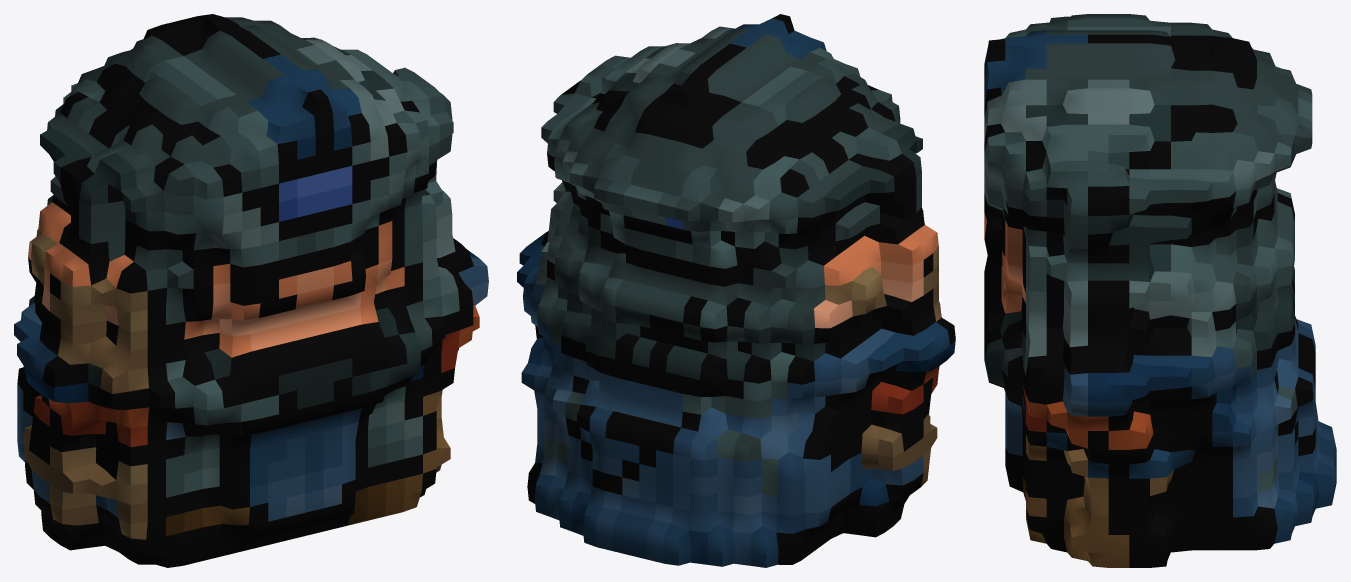
File: Icon_716_01.obj
3 renders of one model, left to right at view 1: azimuth 30°, elevation 25°; view 2: azimuth 150°, elevation 25°; view 3: azimuth 270°, elevation 25°, orthographic. The views are drawn at different scales.
Size of the model in its own units: 2.4 by 2.4 by 1.7.
1 material, 1 textured.
